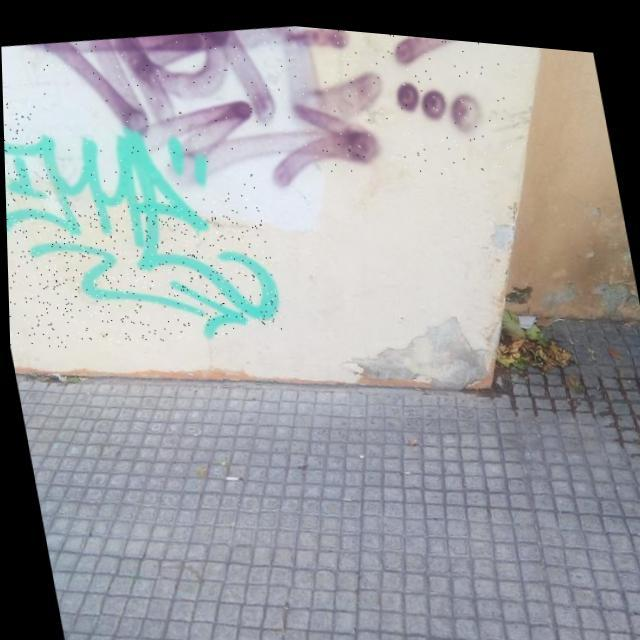-: (22, 2, 523, 234), (2, 65, 284, 370)
